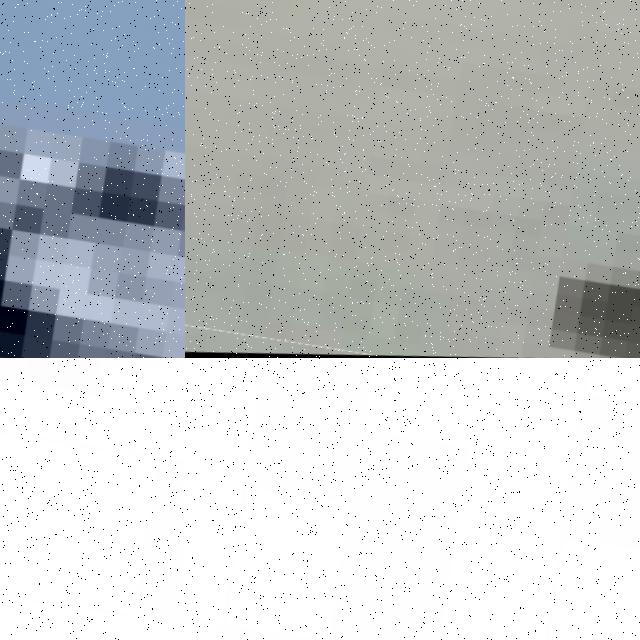0: (0, 0, 185, 358)
drone: (185, 0, 640, 358), (185, 358, 640, 640), (0, 358, 185, 640)
